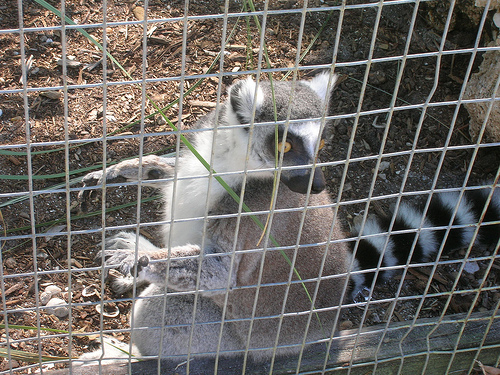cat: (78, 66, 499, 359)
